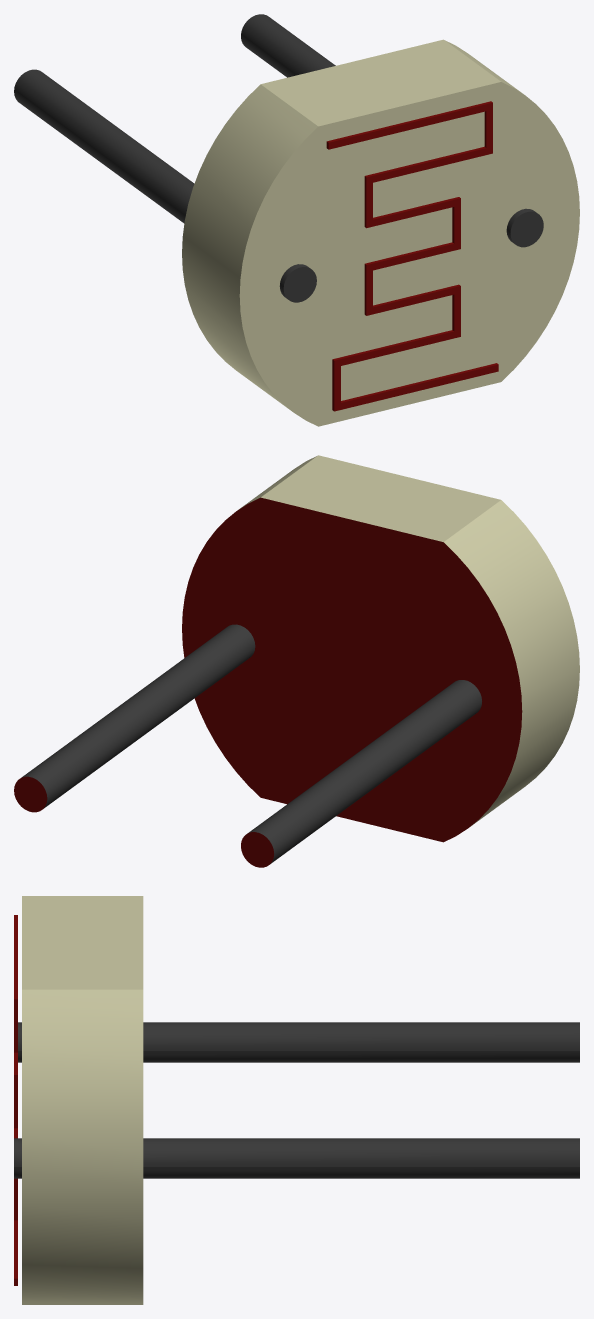
File: r_ldr_5.1x4.3mm_p3.4mm_vertical.glb
3 views of the same model, one above another, from view 1: azimuth 30°, elevation 25°; view 2: azimuth 150°, elevation 25°; view 3: azimuth 270°, elevation 25° (orthographic). The views are drawn at different scales.
Visible parts, largest first — view 1: R_LDR_5.1x4.3mm_P3.4mm_Vertical; view 2: R_LDR_5.1x4.3mm_P3.4mm_Vertical; view 3: R_LDR_5.1x4.3mm_P3.4mm_Vertical.
Part boxes in pixels (x1,y1,x2,y2): R_LDR_5.1x4.3mm_P3.4mm_Vertical: (14,14,579,426); R_LDR_5.1x4.3mm_P3.4mm_Vertical: (14,455,579,867); R_LDR_5.1x4.3mm_P3.4mm_Vertical: (14,896,579,1304).
Bounding box in the file's own units: 5.1 × 4.3 × 7.
